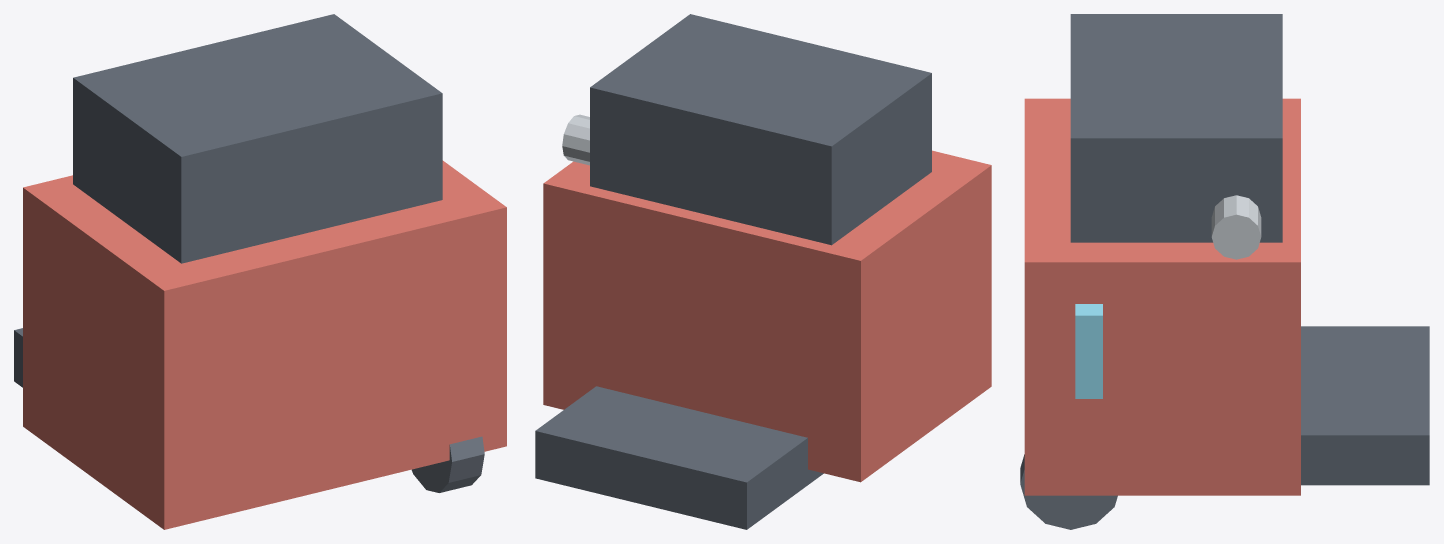
The model's file is trituradora_4.glb.
3 views of the same model, side by side, from view 1: azimuth 30°, elevation 25°; view 2: azimuth 150°, elevation 25°; view 3: azimuth 270°, elevation 25° (orthographic). The views are drawn at different scales.
Parts seen in each view (by area): view 1: chasis, tolva, rueda; view 2: chasis, tolva, cinta, rodillo; view 3: chasis, tolva, cinta, rodillo, panel, rueda.
Part boxes in pixels (bbox=[...]): chasis: bbox=[23, 160, 506, 529]; tolva: bbox=[73, 14, 442, 263]; rueda: bbox=[411, 436, 484, 492]; chasis: bbox=[543, 150, 991, 482]; tolva: bbox=[590, 14, 931, 245]; cinta: bbox=[535, 386, 823, 529]; rodillo: bbox=[562, 114, 589, 165]; chasis: bbox=[1024, 98, 1300, 495]; tolva: bbox=[1070, 14, 1282, 242]; cinta: bbox=[1301, 326, 1429, 485]; rodillo: bbox=[1211, 195, 1261, 259]; panel: bbox=[1075, 304, 1102, 398]; rueda: bbox=[1020, 454, 1117, 529].
Bounding box in the file's own units: 0.8804 × 0.9 × 0.8707.
